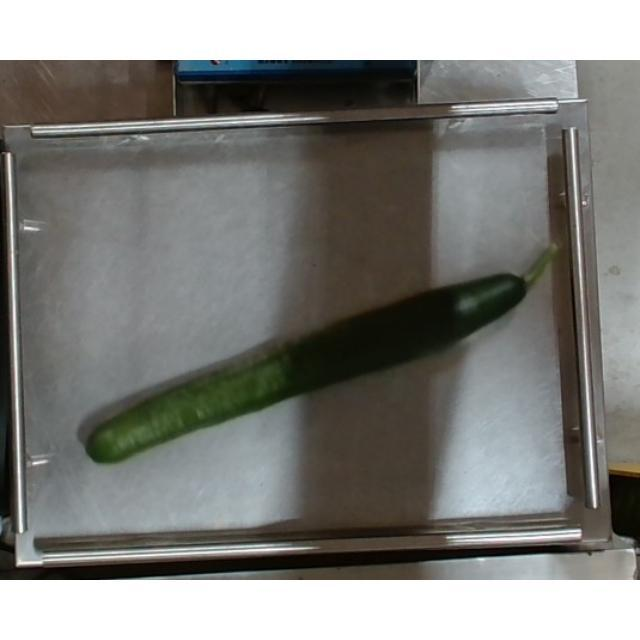cucumber: (84, 244, 558, 453)
